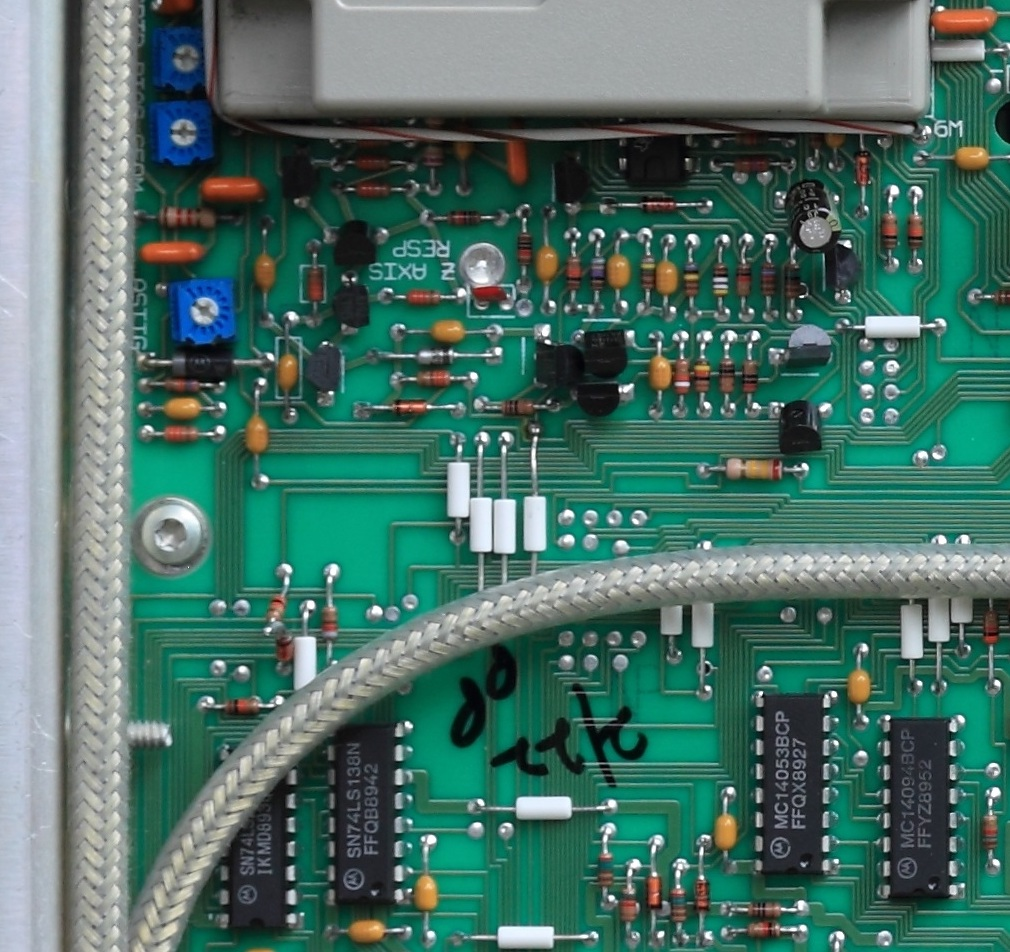Capacitor: (782, 177, 845, 256)
Diode: (164, 348, 239, 381), (410, 345, 463, 369), (849, 143, 874, 192), (641, 866, 665, 917), (632, 193, 682, 217), (270, 628, 298, 670), (690, 871, 713, 918), (387, 396, 433, 418)
Resistor: (713, 452, 788, 485), (151, 203, 224, 234), (418, 112, 448, 177), (260, 583, 295, 629), (214, 693, 268, 720), (614, 878, 641, 931), (346, 147, 398, 173), (724, 129, 780, 153), (302, 260, 329, 309), (902, 203, 926, 258), (316, 594, 341, 646), (725, 151, 779, 175), (730, 256, 757, 304), (736, 354, 764, 400), (348, 176, 397, 202), (678, 255, 706, 300), (875, 209, 902, 255), (590, 847, 617, 893), (782, 256, 806, 307), (669, 350, 693, 400), (714, 351, 738, 401), (978, 601, 1002, 651), (706, 255, 730, 304), (560, 246, 584, 295), (739, 897, 788, 921), (690, 353, 715, 400), (153, 423, 208, 444), (668, 879, 690, 930), (979, 805, 1000, 858), (738, 919, 786, 942), (510, 228, 535, 272), (410, 369, 457, 392), (438, 206, 487, 228), (757, 256, 779, 303), (399, 287, 444, 309), (497, 396, 541, 418), (638, 250, 659, 296), (585, 250, 606, 295), (157, 377, 211, 394)
